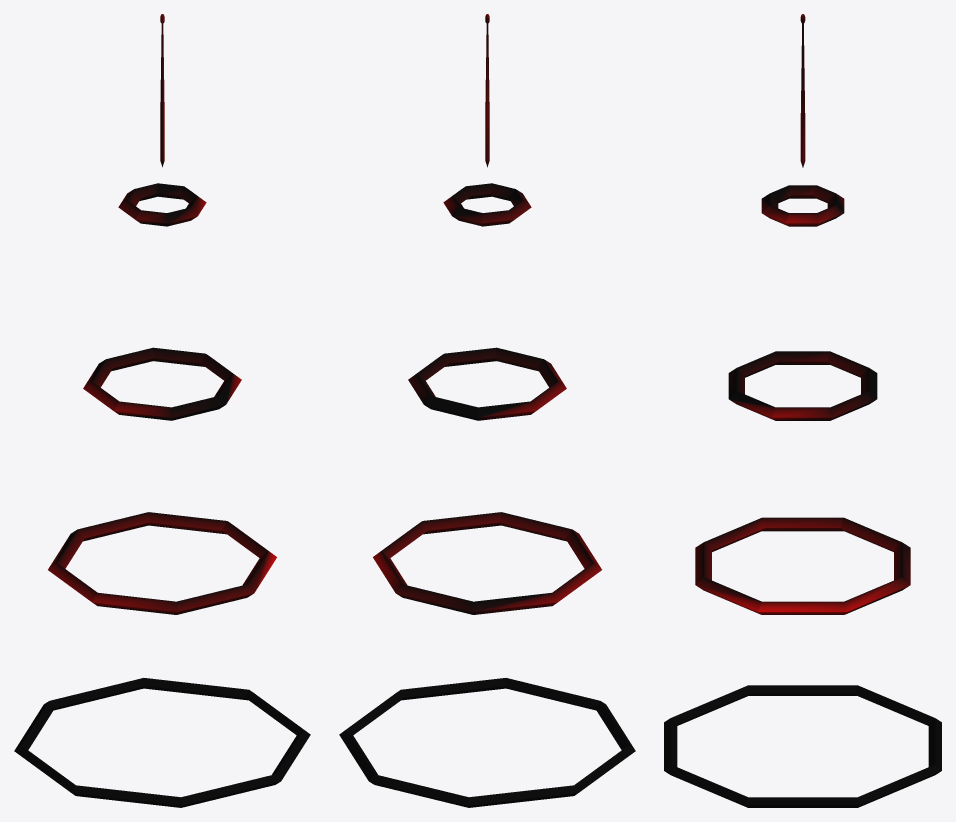
Rendered from TowerTopHorizontal_export.obj.
3 views of the same model, side by side, from view 1: azimuth 30°, elevation 25°; view 2: azimuth 150°, elevation 25°; view 3: azimuth 270°, elevation 25° (orthographic).
Visible parts, largest first — view 1: TowerTopHorizontal; view 2: TowerTopHorizontal; view 3: TowerTopHorizontal.
Boxes of the visible parts, box(x1,y1,x2,y2) form: TowerTopHorizontal: box(14, 14, 310, 807); TowerTopHorizontal: box(339, 14, 635, 807); TowerTopHorizontal: box(664, 14, 941, 807).
Bounding box in the file's own units: 5.59 × 16.37 × 5.59.
